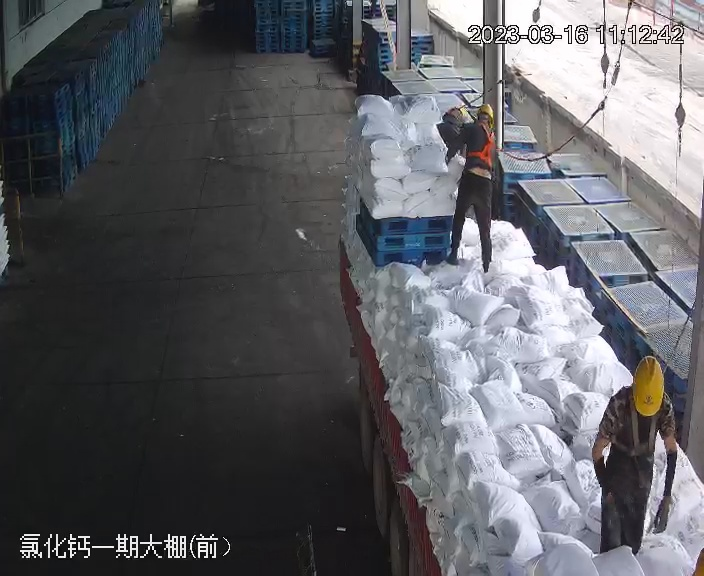belt: (604, 355, 674, 437), (618, 390, 667, 451), (463, 121, 500, 163)
head: (604, 356, 675, 432), (458, 102, 497, 143)
helmet: (605, 356, 674, 431), (629, 355, 665, 417), (475, 102, 495, 124), (453, 104, 470, 121)
people: (589, 355, 681, 561), (438, 102, 502, 271)
truck: (331, 73, 695, 576)
